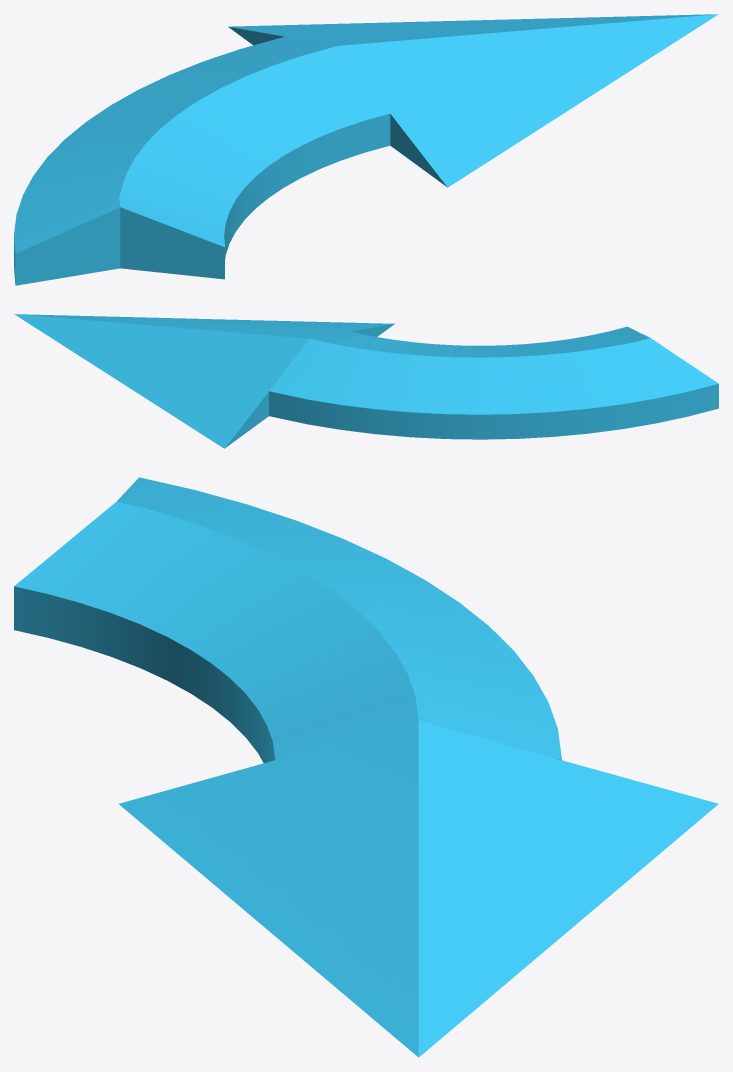
Rendered from Right.glb.
3 views of the same model, one above another, from view 1: azimuth 30°, elevation 25°; view 2: azimuth 150°, elevation 25°; view 3: azimuth 270°, elevation 25° (orthographic). The views are drawn at different scales.
Visible parts, largest first — view 1: Right; view 2: Right; view 3: Right.
Part boxes in pixels (left/top/right/bottom): Right: left=14, top=14, right=718, bottom=285; Right: left=14, top=314, right=718, bottom=448; Right: left=14, top=477, right=718, bottom=1057.
Bounding box in the file's own units: 4.23 × 0.307 × 2.35.
